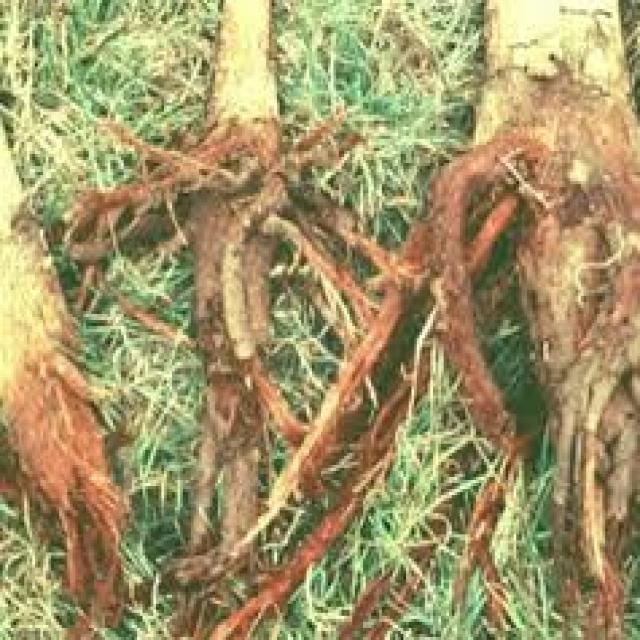root_rot: (431, 17, 640, 591), (130, 17, 353, 540), (8, 59, 139, 608)
